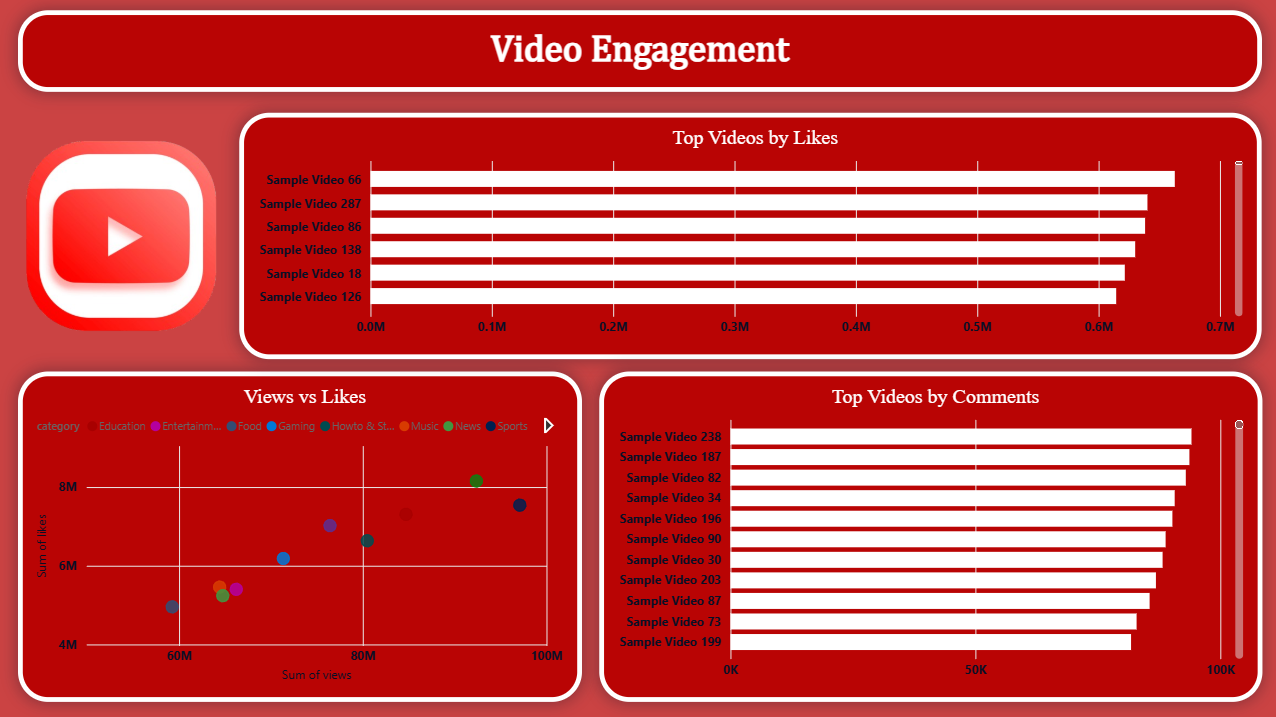

The dashboard page shown, as its layout file describes it:
{"tool":"powerbi","page":{"name":"Page 4","canvas":[1280,720],"ordinal":3},"visuals":[{"type":"scatterChart","title":"Views vs Likes","fields":{"X":["Sum(youtube_trending_clean_powerbi.views)"],"Series":["youtube_trending_clean_powerbi.category"],"Y":["youtube_trending_clean_powerbi.likes"]},"box":[20,372.9,564.3,330],"z":0},{"type":"clusteredBarChart","title":"Top Videos by Likes","fields":{"Y":["Sum(youtube_trending_clean_powerbi.likes)"],"Category":["youtube_trending_clean_powerbi.title"]},"box":[241.2,113.8,1022.5,246.2],"z":1000},{"type":"clusteredBarChart","title":"Top Videos by Comments","fields":{"Category":["youtube_trending_clean_powerbi.title"],"Y":["Sum(youtube_trending_clean_powerbi.comment_count)"]},"box":[601.4,372.9,662.9,330],"z":2000},{"type":"textbox","box":[20,11.4,1244.3,81.4],"z":3000},{"type":"image","box":[20,113.8,206.2,246.2],"z":4000}]}

Visuals, with their boxes in screenshot pixels (x1, y1, x2, y2), scaled from the page's 1280x720 canvas onto the 1276x717 screenshot:
"Views vs Likes" scatterChart: [left=20, top=371, right=582, bottom=700]
"Top Videos by Likes" clusteredBarChart: [left=240, top=113, right=1260, bottom=358]
"Top Videos by Comments" clusteredBarChart: [left=600, top=371, right=1260, bottom=700]
textbox: [left=20, top=11, right=1260, bottom=92]
image: [left=20, top=113, right=225, bottom=358]
